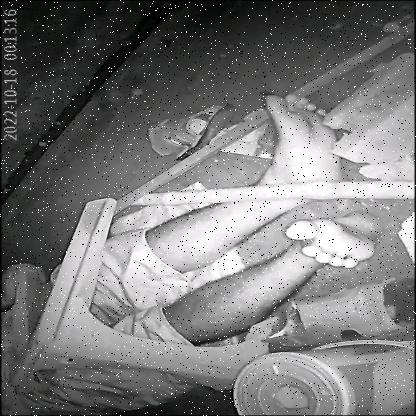leg: (142, 85, 368, 270), (169, 207, 392, 340)
